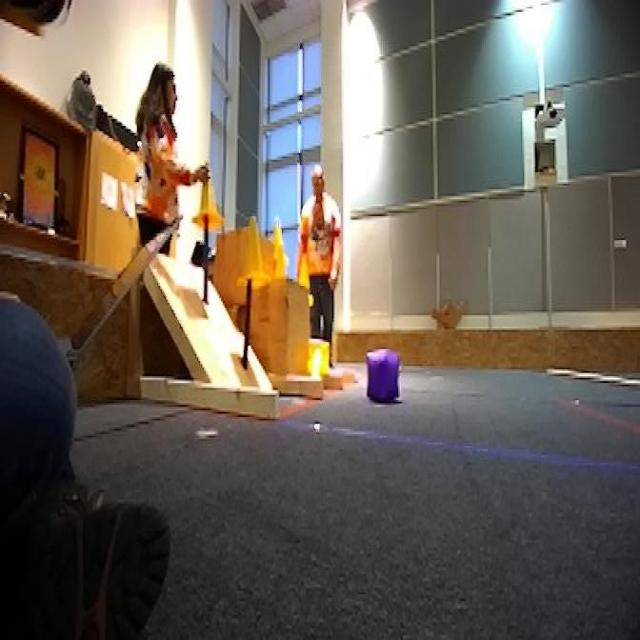frc_cone: (238, 214, 270, 293), (190, 162, 224, 233), (306, 337, 331, 381), (270, 214, 288, 264), (273, 242, 288, 277)
frc_cube: (365, 349, 401, 403)
